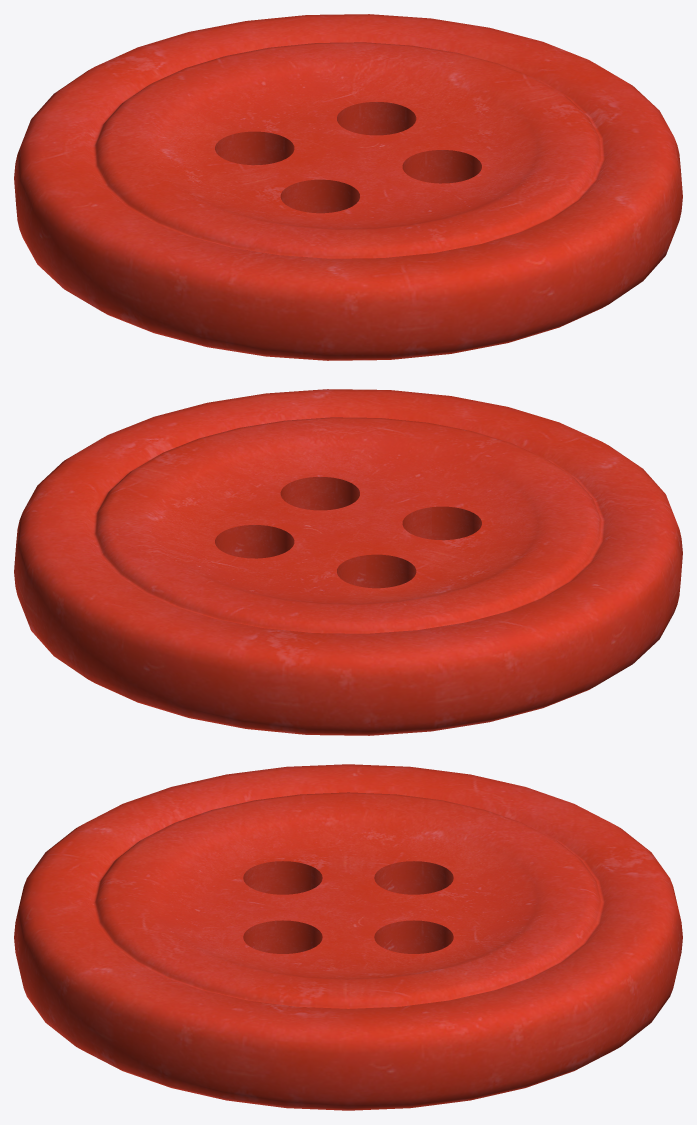
Rendered from simple_button.glb.
The picture shows the model from 3 angles, top to bottom: view 1: azimuth 30°, elevation 25°; view 2: azimuth 150°, elevation 25°; view 3: azimuth 270°, elevation 25°; orthographic projection.
Parts seen in each view (by area): view 1: Object_2; view 2: Object_2; view 3: Object_2.
Boxes of the visible parts, x1,y1,x2,y2 form: Object_2: [14, 14, 682, 360]; Object_2: [14, 389, 682, 735]; Object_2: [14, 764, 682, 1110].
Size of the model in its own units: 2.02 by 0.2837 by 2.02.
1 material, 1 textured.
